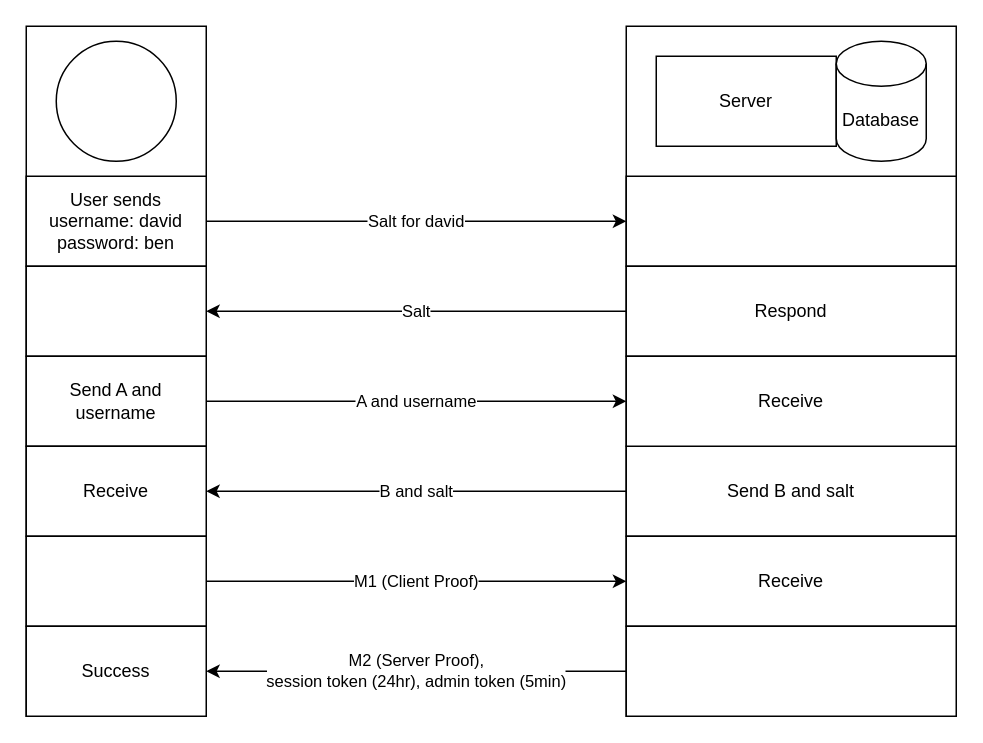
Some shapes in this 983 by 743 pixel diagram are drawn without their labels. Each missing label, with the centre of its shape:
"ben -> Argon2(salt) -> HKDF -> SRP" goes at point (115, 310).
"Calculate M1 and send" goes at point (115, 580).
"Check database" goes at point (790, 220).
"Client" goes at point (115, 100).
"Verify, send M2 and tokens" goes at point (790, 670).
